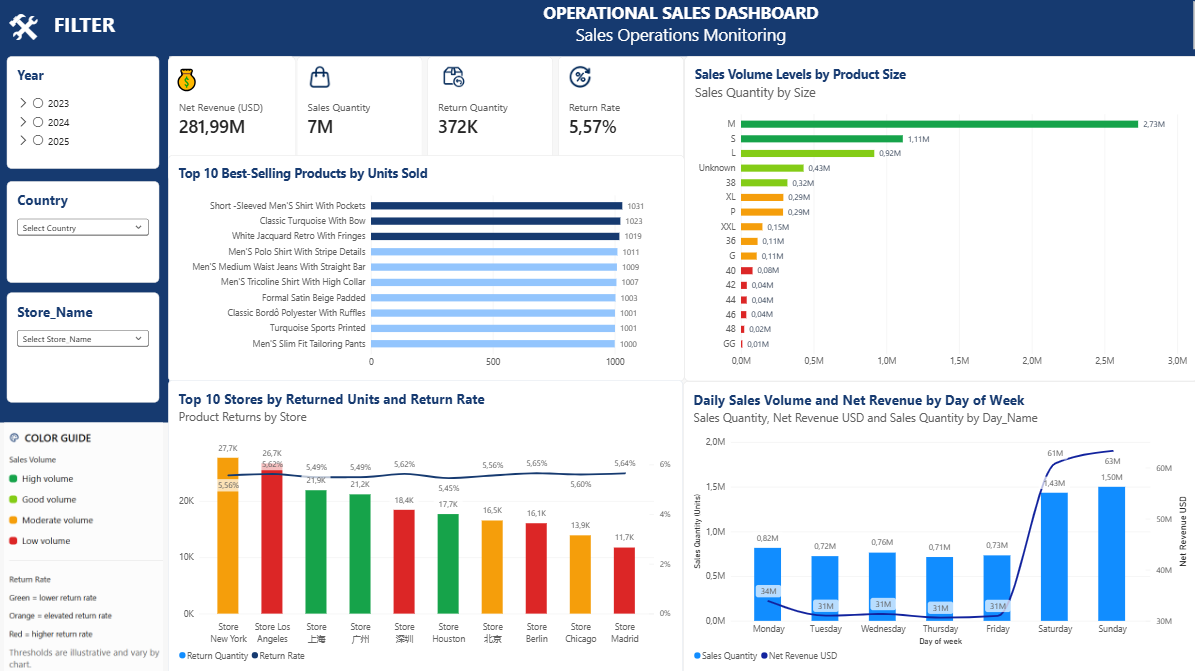

What the dashboard file says about the page in this screenshot:
{"tool":"powerbi","page":{"name":"DASHBOARD 3: OPERATIONAL – SALES & RETURNS MONITORING","canvas":[1920,1080],"ordinal":2},"visuals":[{"type":"cardVisual","fields":{"Data":["Fact_Sales.Sales Quantity","Fact_Sales.Return Quantity","Fact_Sales.Return Rate"]},"box":[478.6,90,620,200],"z":0},{"type":"shape","box":[0,0,1920,90],"z":1000},{"type":"shape","box":[0,84,274,592],"z":2000},{"type":"cardVisual","title":"Net Revenue (USD)","fields":{"Data":["Fact_Sales.Net Revenue USD"]},"box":[272,90,204,200],"z":3000},{"type":"clusteredBarChart","title":"Top 10 Best-Selling Products by Units Sold","fields":{"Category":["Dim_Product.Description_EN"],"Y":["Fact_Sales.Sales Quantity"]},"box":[272,248,826,362],"z":4000},{"type":"barChart","title":"Sales Volume Levels by Product Size","fields":{"Category":["Fact_Sales.Size"],"Y":["Fact_Sales.Sales Quantity"]},"box":[1098,90,822,520],"z":5000},{"type":"lineClusteredColumnComboChart","title":"Top 10 Stores by Returned Units and Return Rate","fields":{"Category":["Dim_Store.Store_Name"],"Y":["Fact_Sales.Return Quantity"],"Y2":["Fact_Sales.Return Rate"]},"box":[272,608,824,472],"z":6000},{"type":"lineClusteredColumnComboChart","title":"Daily Sales Volume and Net Revenue by Day of Week","fields":{"Category":["Dim_Date.Day_Name"],"Y":["Fact_Sales.Sales Quantity"],"Y2":["Fact_Sales.Net Revenue USD"]},"box":[1096,610,824,470],"z":7000},{"type":"listSlicer","fields":{"Values":["Dim_Date.Full_Date.Variation.Date Hierarchy.Year","Dim_Date.Full_Date.Variation.Date Hierarchy.Quarter","Dim_Date.Full_Date.Variation.Date Hierarchy.Month","Dim_Date.Full_Date.Variation.Date Hierarchy.Day"]},"box":[14,90,244,180],"z":8000},{"type":"listSlicer","fields":{"Values":["Dim_Store.Country"]},"box":[14,290,244,162],"z":9000},{"type":"listSlicer","fields":{"Values":["Dim_Store.Store_Name"]},"box":[14,468,244,176],"z":10000},{"type":"textbox","box":[272,104,60,76],"z":11000},{"type":"textbox","box":[14,2,62,82],"z":12000},{"type":"textbox","box":[76,16,124,68],"z":13000},{"type":"textbox","box":[274,2,1646,82],"z":14000},{"type":"image","box":[0,676,274,404],"z":15000},{"type":"image","box":[490,104.3,50,37.1],"z":16000},{"type":"image","box":[697.1,104.3,62.9,37.1],"z":17000},{"type":"image","box":[901.4,104.3,58.6,37.1],"z":18000}]}

Visuals, with their boxes in screenshot pixels (x1, y1, x2, y2), scaled from the page's 1920x1080 canvas onto the 1195x671 screenshot:
cardVisual - Fact_Sales.Sales Quantity x Fact_Sales.Return Quantity: rect(298, 56, 684, 180)
shape: rect(0, 0, 1194, 56)
shape: rect(0, 52, 171, 420)
"Net Revenue (USD)" cardVisual: rect(169, 56, 296, 180)
"Top 10 Best-Selling Products by Units Sold" clusteredBarChart: rect(169, 154, 683, 379)
"Sales Volume Levels by Product Size" barChart: rect(683, 56, 1194, 379)
"Top 10 Stores by Returned Units and Return Rate" lineClusteredColumnComboChart: rect(169, 378, 682, 670)
"Daily Sales Volume and Net Revenue by Day of Week" lineClusteredColumnComboChart: rect(682, 379, 1194, 670)
listSlicer - Dim_Date.Full_Date.Variation.Date Hierarchy.Year x Dim_Date.Full_Date.Variation.Date Hierarchy.Quarter: rect(9, 56, 161, 168)
listSlicer - Dim_Store.Country: rect(9, 180, 161, 281)
listSlicer - Dim_Store.Store_Name: rect(9, 291, 161, 400)
textbox: rect(169, 65, 207, 112)
textbox: rect(9, 1, 47, 52)
textbox: rect(47, 10, 124, 52)
textbox: rect(171, 1, 1194, 52)
image: rect(0, 420, 171, 670)
image: rect(305, 65, 336, 88)
image: rect(434, 65, 473, 88)
image: rect(561, 65, 598, 88)
